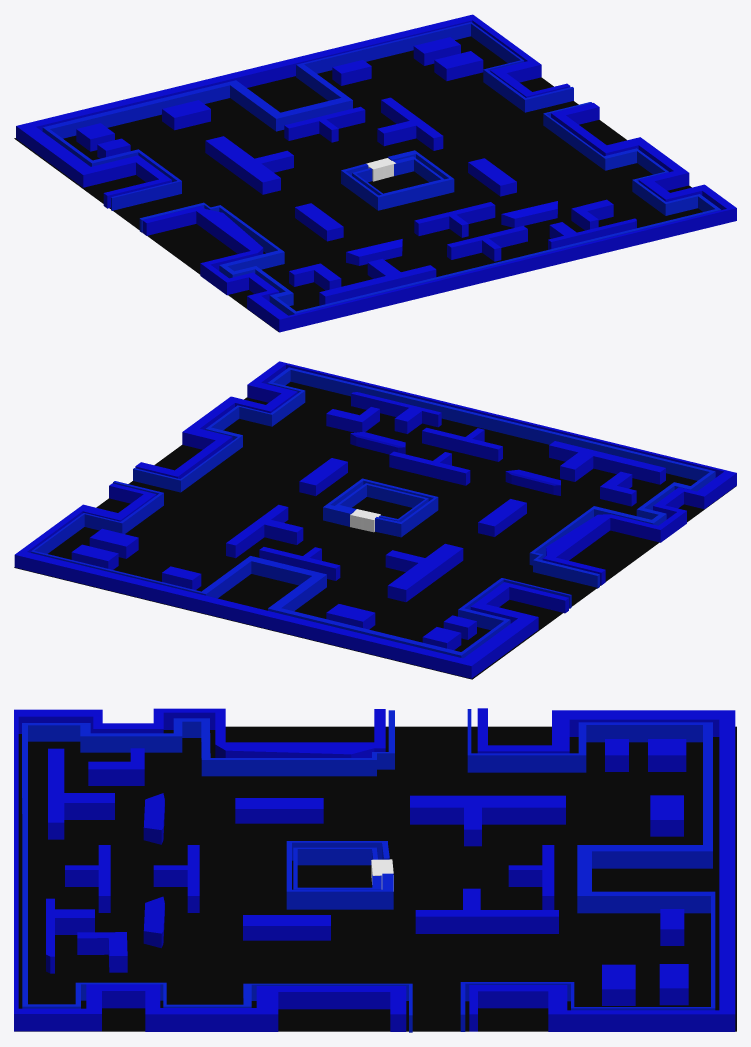
3 views of the same model, one above another, from view 1: azimuth 30°, elevation 25°; view 2: azimuth 150°, elevation 25°; view 3: azimuth 270°, elevation 25° (orthographic). The views are drawn at different scales.
Visible parts, largest first — view 1: MazeFloor, Cube, Cube_003, Cube_001, Cube_002, Cube_010, Cube_014, Cube_023, Cube_012, Cube_011, Cube_015, Cube_016 (+13 smaller); view 2: MazeFloor, Cube_001, Cube_002, Cube, Cube_003, Cube_010, Cube_023, Cube_014, Cube_012, Cube_024, Cube_015, Cube_016 (+14 smaller); view 3: MazeFloor, Cube, Cube_001, Cube_003, Cube_002, Cube_010, Cube_012, Cube_014, Cube_023, Cube_017, Cube_018, ghost_pen (+14 smaller).
Part boxes in pixels (x1,y1,x2,y2): MazeFloor: (14,36,702,331); Cube: (142,103,736,332); Cube_003: (42,22,573,210); Cube_001: (16,14,570,208); Cube_002: (139,102,720,315); Cube_010: (205,136,293,194); Cube_014: (341,150,454,210); Cube_023: (319,258,436,305); Cube_012: (377,97,443,150); Cube_011: (284,106,365,142); Cube_015: (414,202,495,237); Cube_016: (447,225,527,261); MazeFloor: (14,381,736,679); Cube_001: (14,483,568,678); Cube_002: (133,367,715,588); Cube: (135,361,736,585); Cube_003: (31,481,571,658); Cube_010: (385,543,463,602); Cube_023: (549,441,665,484); Cube_014: (323,478,438,537); Cube_012: (226,504,303,558); Cube_024: (351,392,441,433); Cube_015: (389,451,470,485); Cube_016: (422,427,502,461); MazeFloor: (15,726,736,1031); Cube: (14,708,406,1031); Cube_001: (469,708,735,1031); Cube_003: (460,709,715,1031); Cube_002: (22,710,412,1032); Cube_010: (410,795,565,846); Cube_012: (415,888,558,933); Cube_014: (286,841,393,909); Cube_023: (48,748,114,839); Cube_017: (235,798,323,823); Cube_018: (243,915,330,940); ghost_pen: (293,847,381,889).
Size of the model in its own units: 30140 by 970 by 30044.
